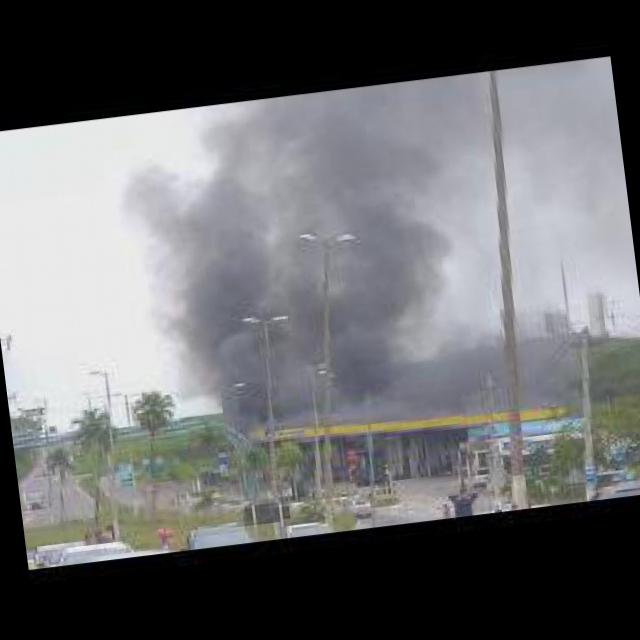fire: (340, 448, 354, 462)
smoke: (129, 100, 451, 437)
